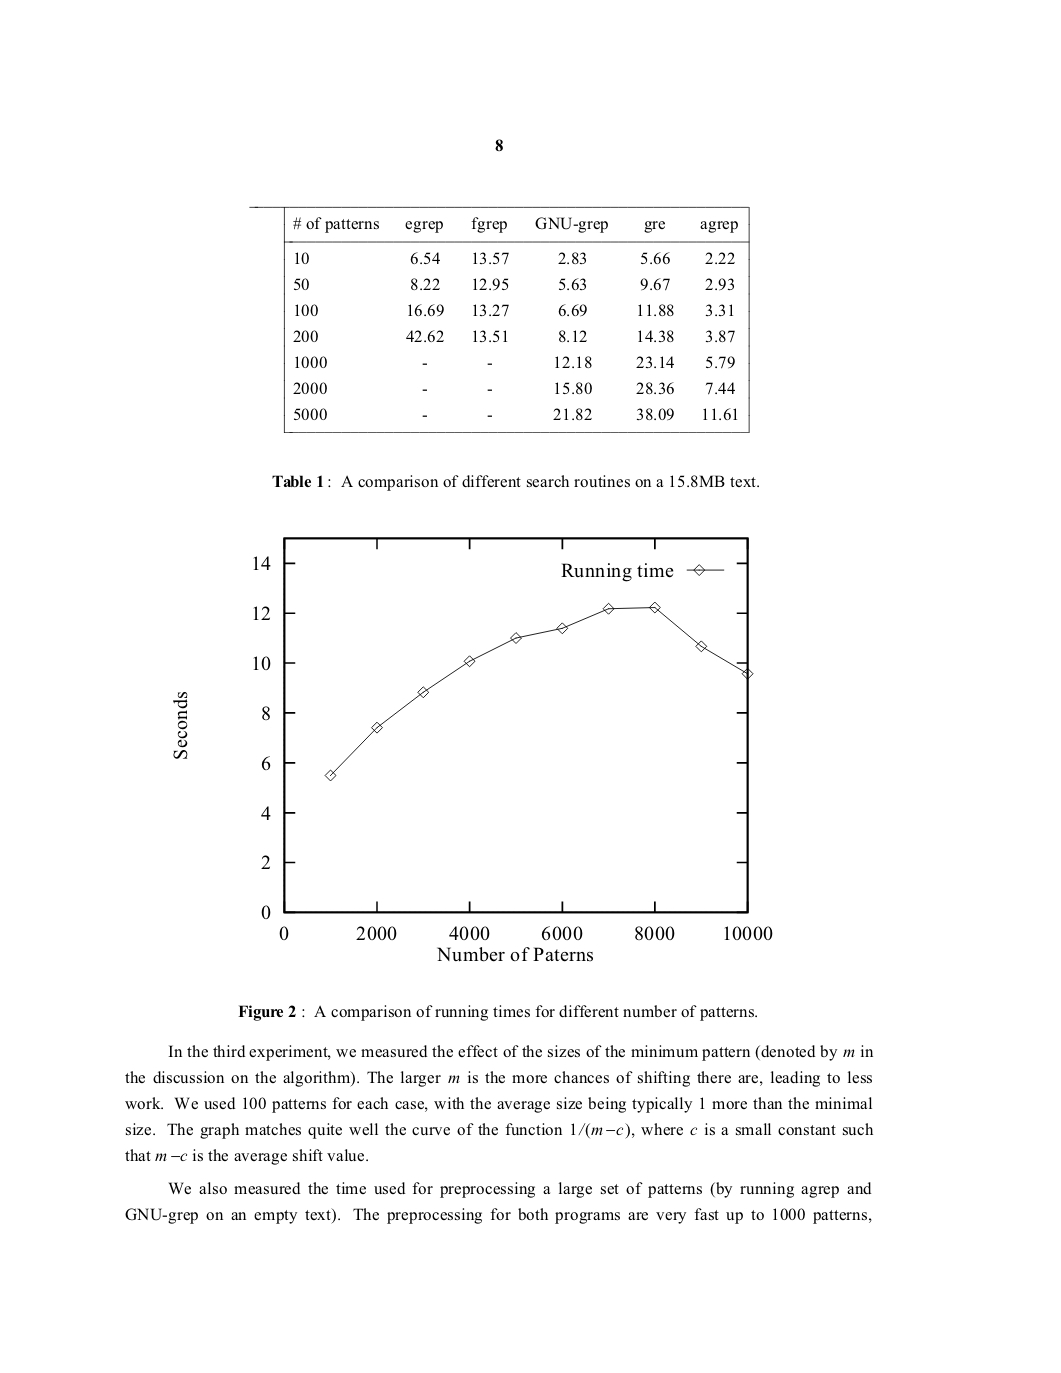Table: (249, 205, 749, 434)
figure: (173, 537, 772, 961)
